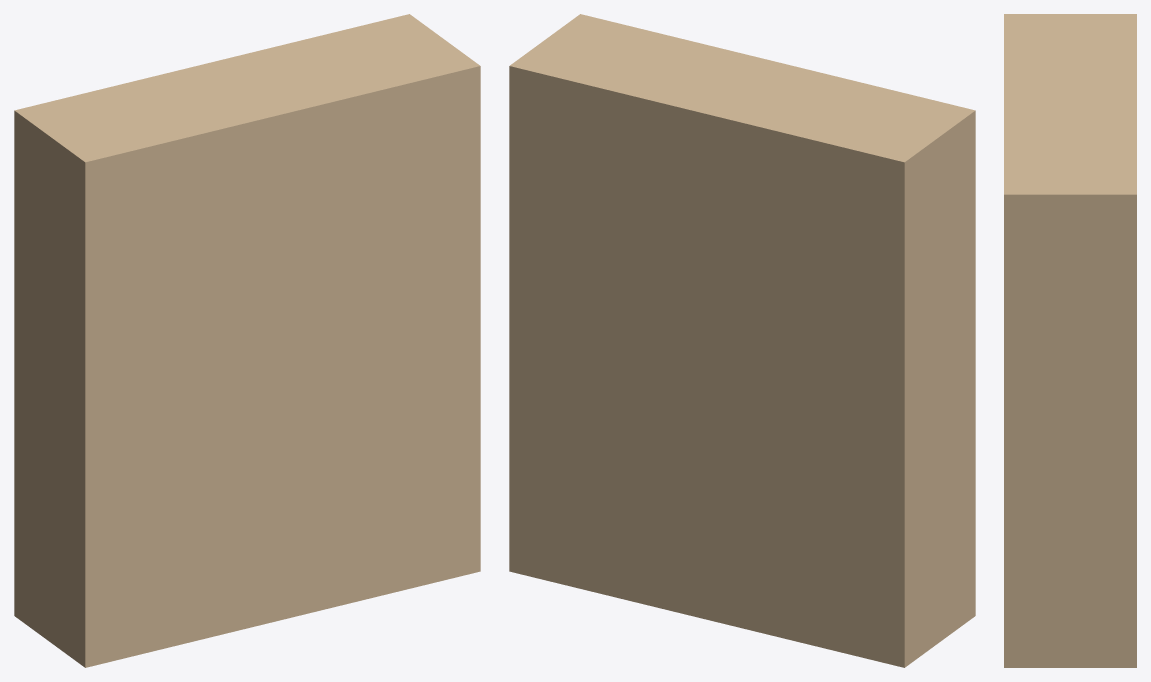
Rendered from toy-shelf.glb.
The picture shows the model from 3 angles, left to right: view 1: azimuth 30°, elevation 25°; view 2: azimuth 150°, elevation 25°; view 3: azimuth 270°, elevation 25°; orthographic projection. The views are drawn at different scales.
Parts seen in each view (by area): view 1: root; view 2: root; view 3: root.
Part boxes in pixels (x1,y1,x2,y2): root: [14, 14, 480, 667]; root: [509, 14, 975, 667]; root: [1004, 14, 1136, 667].
Size of the model in its own units: 0.9 by 1.1 by 0.28.
